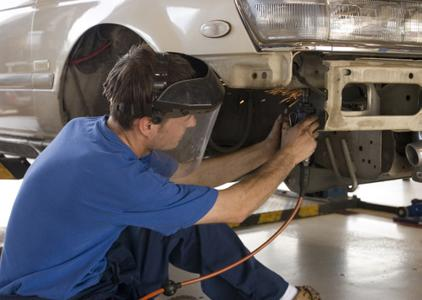person: (2, 44, 320, 300)
